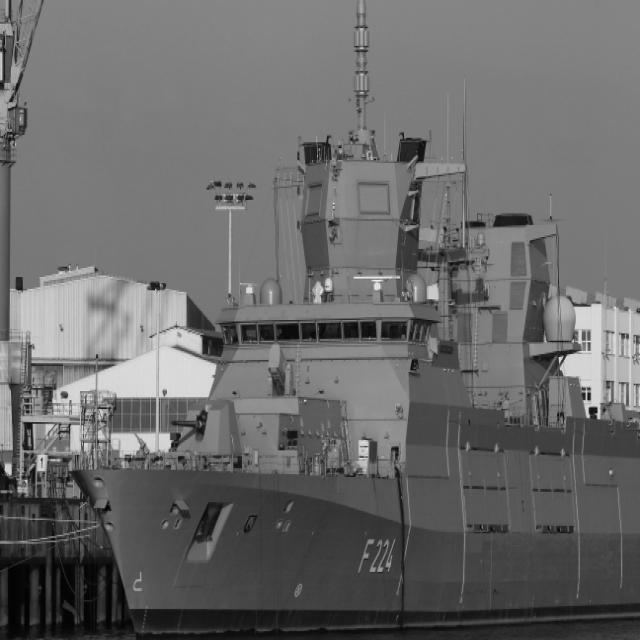Fragata: (64, 1, 640, 640)
